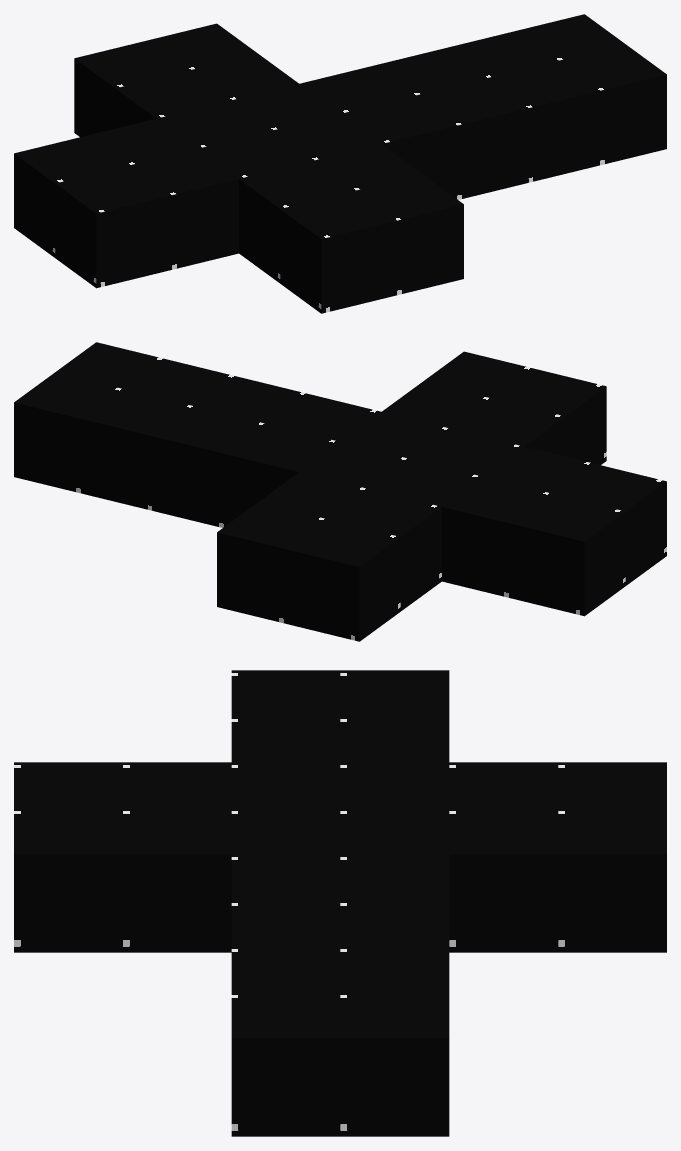
File: cartone_aperto_usv.gltf
3 renders of one model, top to bottom at view 1: azimuth 30°, elevation 25°; view 2: azimuth 150°, elevation 25°; view 3: azimuth 270°, elevation 25°, orthographic. The views are drawn at different scales.
Visible parts, largest first — view 1: Layer.1; view 2: Layer.1; view 3: Layer.1.
Part boxes in pixels (x1=…): Layer.1: x1=14, y1=14, x2=666, y2=313; Layer.1: x1=14, y1=342, x2=666, y2=641; Layer.1: x1=14, y1=670, x2=666, y2=1136.
Size of the model in its own units: 8 by 1 by 6.
1 material, 1 textured.
